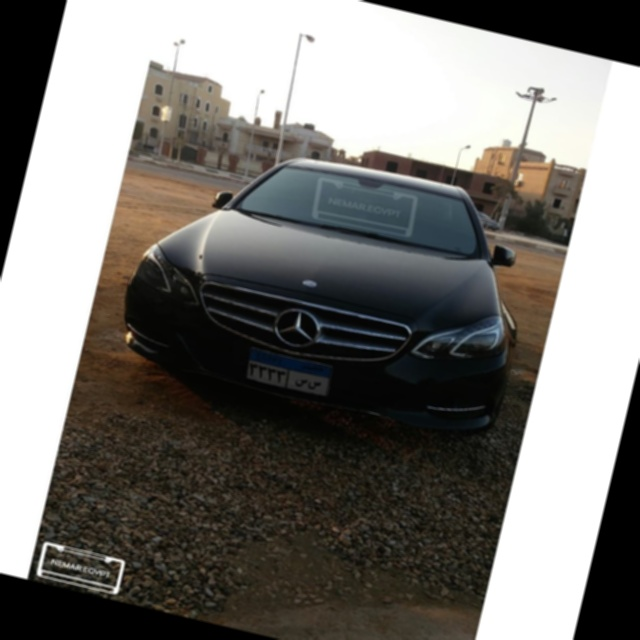License Plate: (241, 345, 337, 400)
